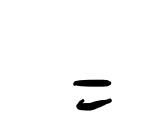eqv: (73, 80, 112, 110)
